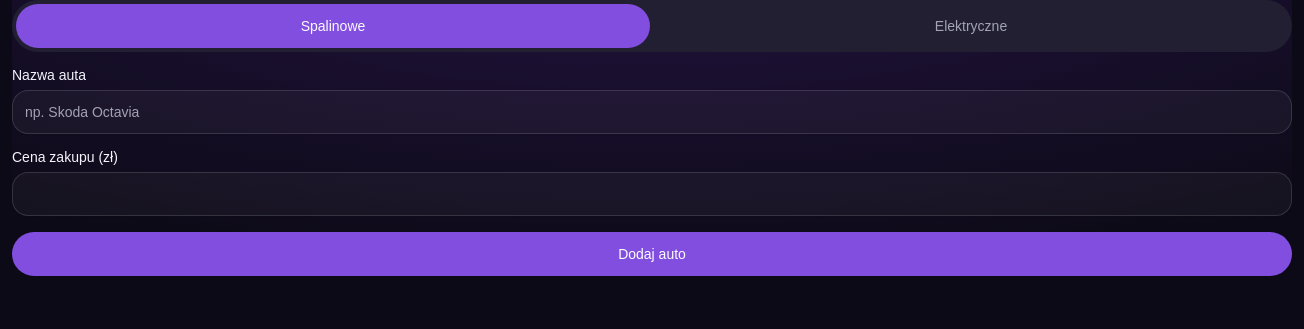
AddCarForm › explains a network failure
The image size is (1304, 329).
Type "Golf" into the field labelled "Nazwa auta" at x=652, y=112, box [12, 90, 1292, 134]
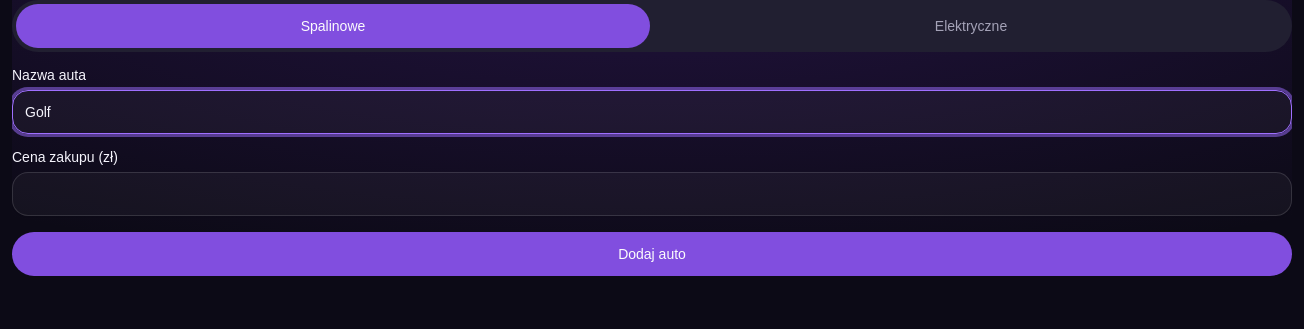
Click the button "Dodaj auto" at x=652, y=254, box [12, 232, 1292, 276]
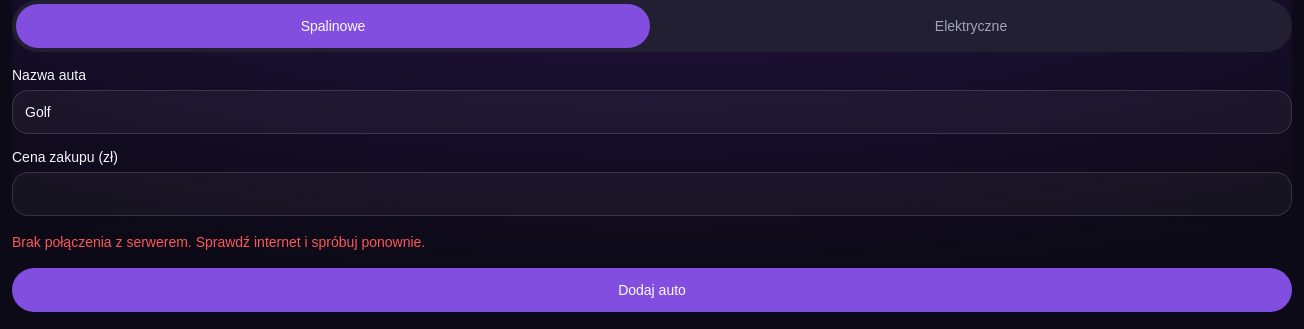
expect the message shows "Brak połączenia z serwerem": met, box [12, 234, 425, 250]
